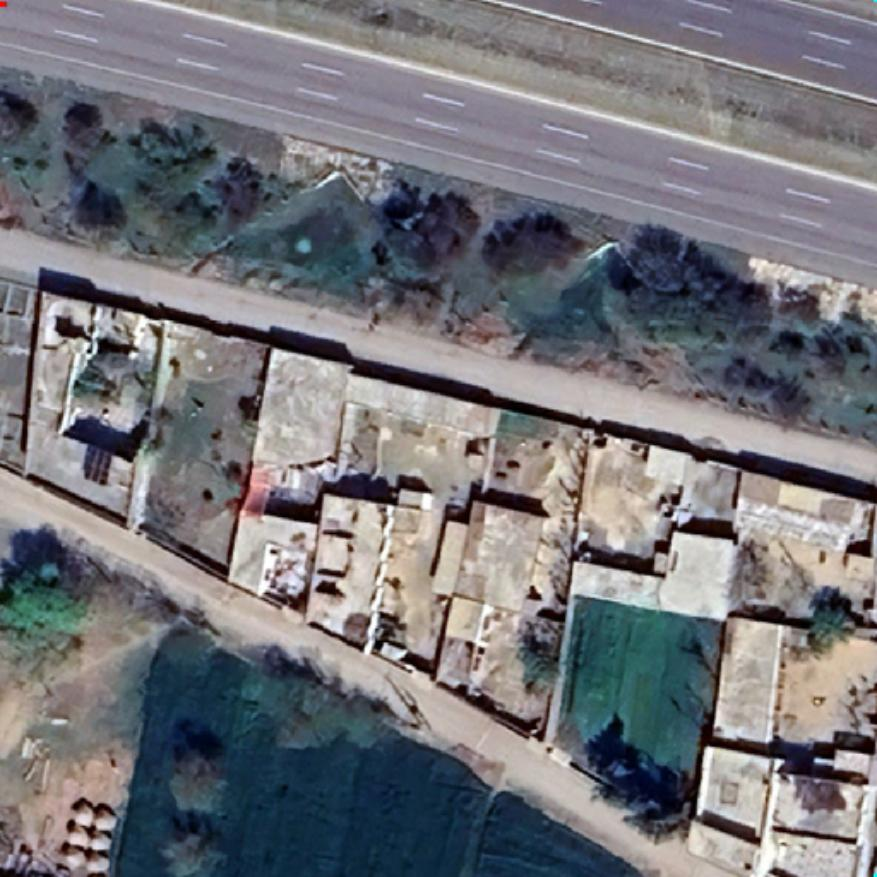Solarpanel: (76, 440, 117, 486)
